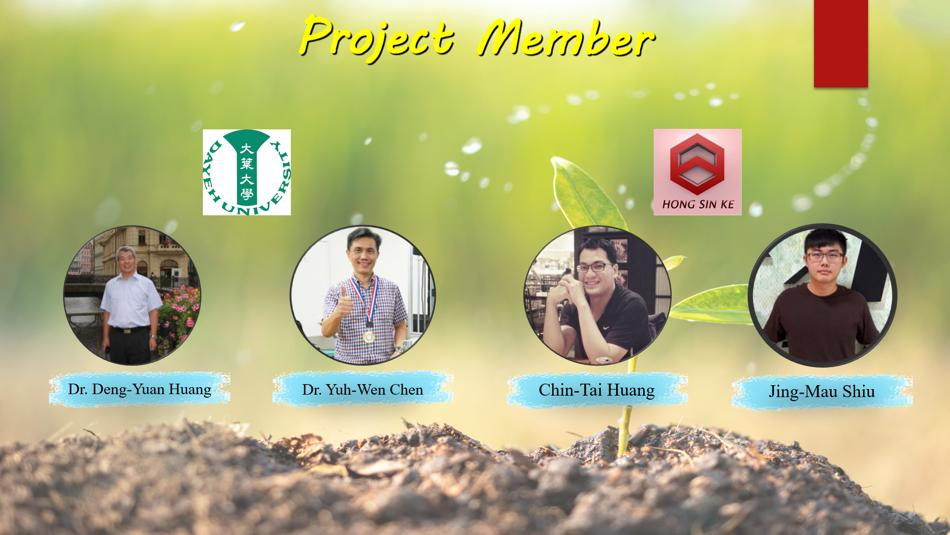Kumquat: (287, 217, 475, 457), (61, 209, 207, 361)
